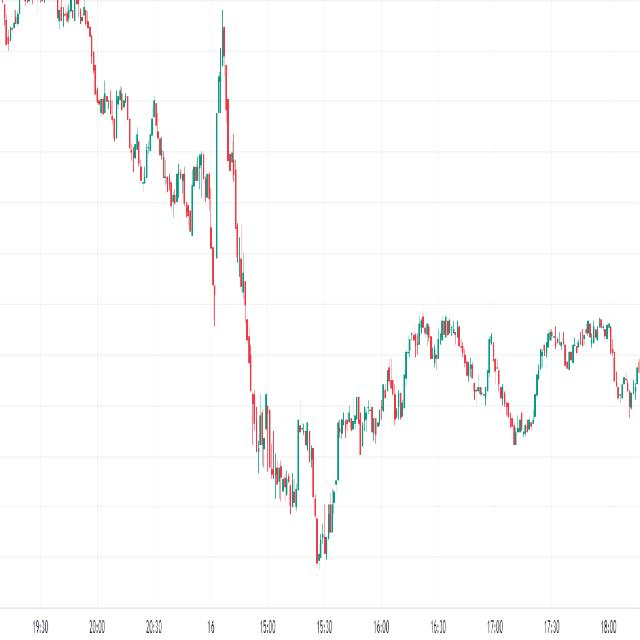Channel-down: (80, 46, 216, 259), (481, 315, 525, 468)
Channel-up: (321, 274, 476, 481)
